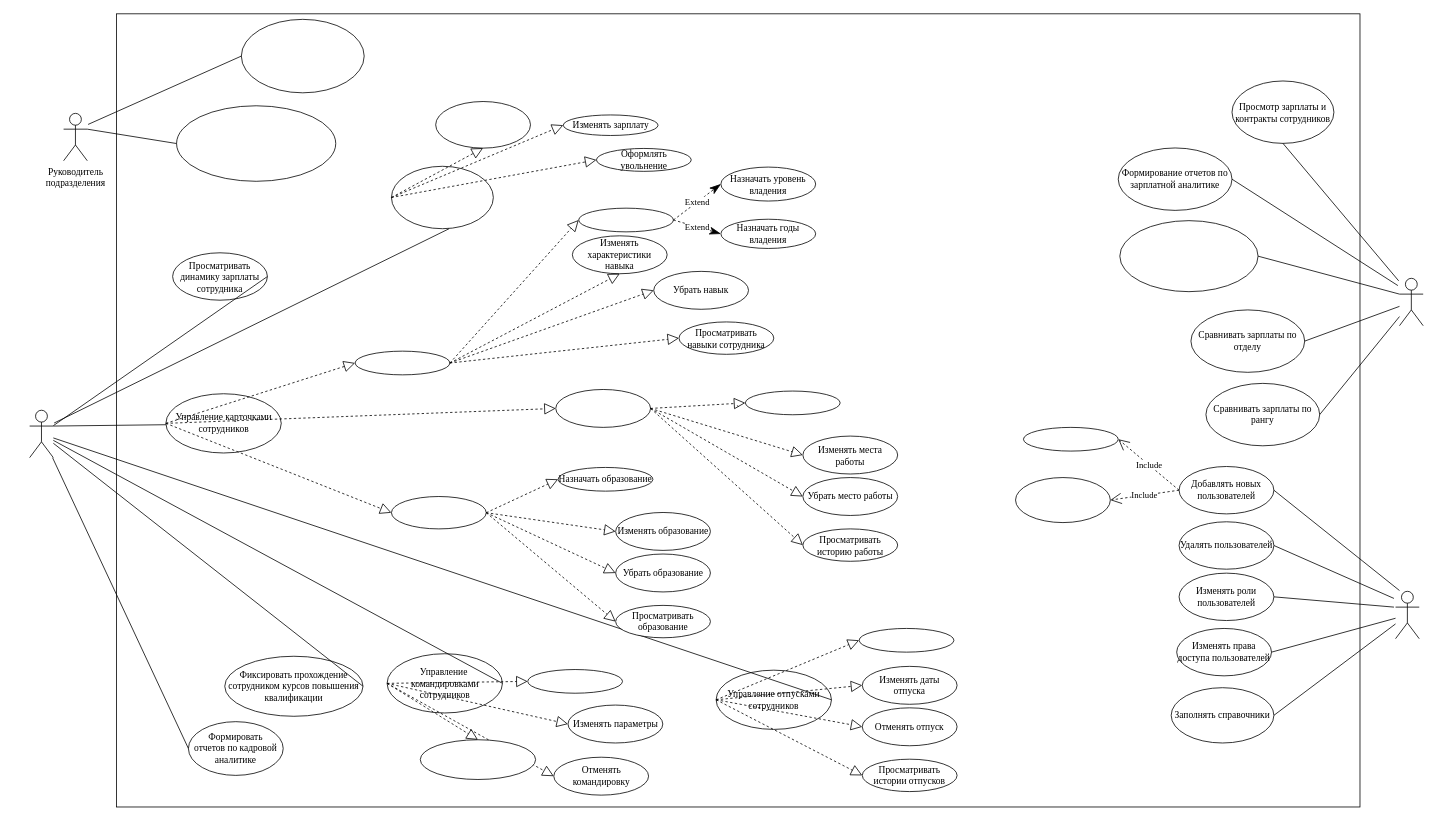
Image size: 1453x821. Some labels were removed from this diagram. Here are the shapes that lost their labels. From the top down, the centre of each, then its label:
point (302, 56): Формировать отчетов по аналитке персонала в отделе
point (256, 143): Просматривать списки и карточки сотрудников подразделения
point (482, 124): Оформлять прием на работу
point (442, 197): Управление контрактами
point (625, 219): Назначать навыки
point (1188, 256): Экспортировать доступные данные в системы бухгалтерского учета
point (1411, 302): Бухгатерия
point (402, 362): Управление навыками
point (603, 408): Управление историей работы
point (792, 402): Назначать место работы
point (41, 433): HR-менеджер
point (1070, 439): Назначать роль
point (438, 512): Управление образованием
point (1062, 500): Назначать права доступа
point (1407, 615): Администратор
point (906, 640): Назначать отпуск
point (575, 681): Назначать командировку
point (477, 759): Просматривать истории командировок
